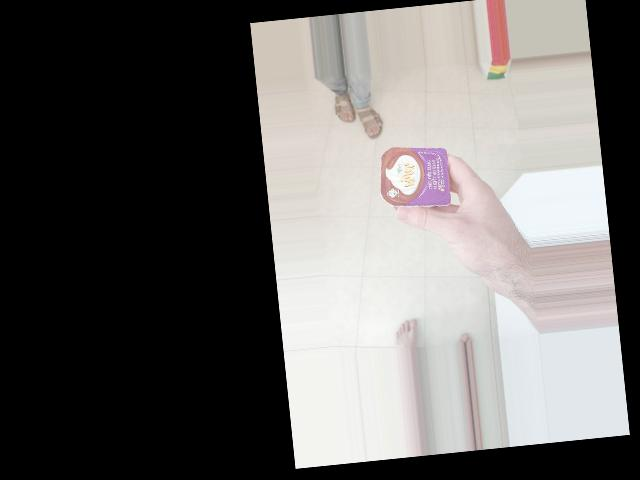milky: (375, 139, 461, 211)
